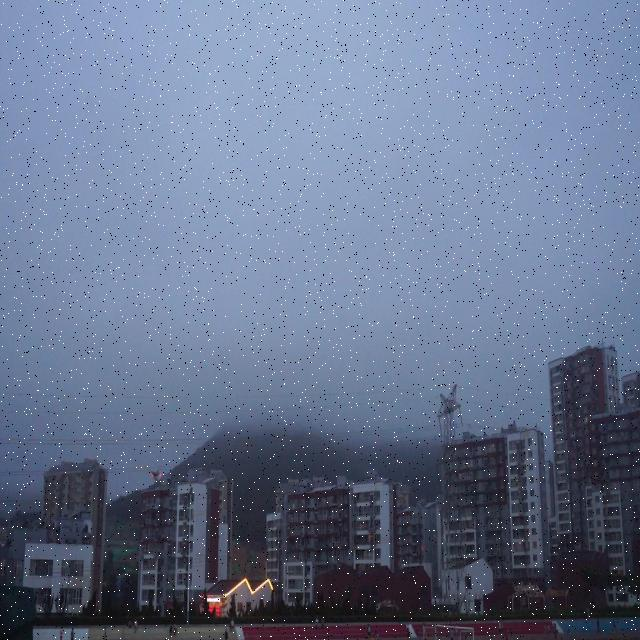UAV: (149, 469, 163, 479)
